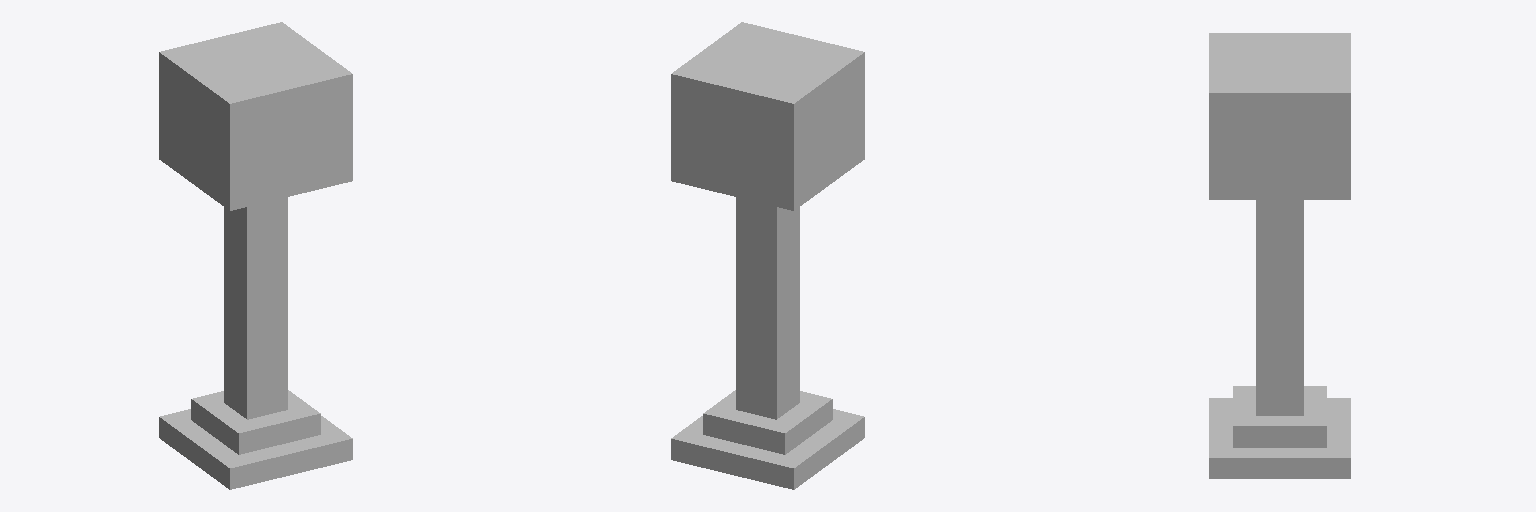
Rendered from lamp.obj.
3 renders of one model, left to right at view 1: azimuth 30°, elevation 25°; view 2: azimuth 150°, elevation 25°; view 3: azimuth 270°, elevation 25°, orthographic.
Parts seen in each view (by area): view 1: object 1; view 2: object 1; view 3: object 1.
Boxes of the visible parts, box(x1,y1,x2,y2) form: object 1: box(159, 22, 352, 489); object 1: box(671, 22, 864, 489); object 1: box(1209, 33, 1350, 478).
Bounding box in the file's own units: 0.6 × 1.8 × 0.6.